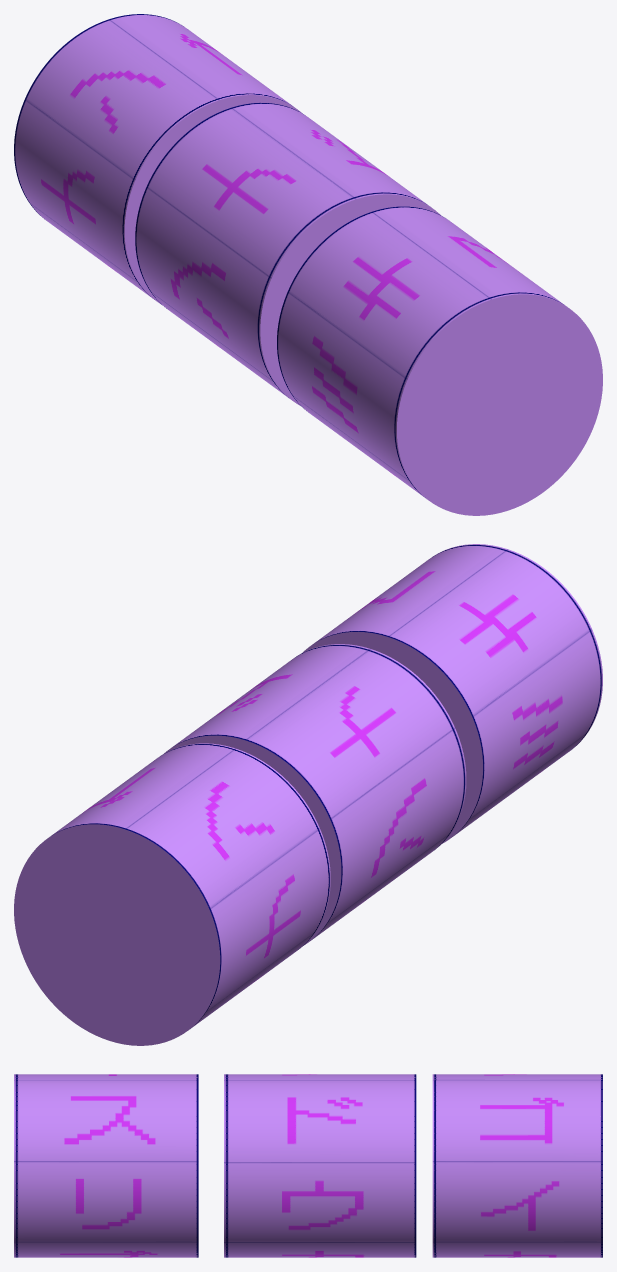
The model's file is slot.fbx.
3 views of the same model, one above another, from view 1: azimuth 30°, elevation 25°; view 2: azimuth 150°, elevation 25°; view 3: azimuth 270°, elevation 25° (orthographic). The views are drawn at different scales.
Visible parts, largest first — view 1: 円柱, 円柱.001, 円柱.002; view 2: 円柱.002, 円柱, 円柱.001; view 3: 円柱.001, 円柱, 円柱.002.
Part boxes in pixels (x1,y1,x2,y2): 円柱: (277, 206, 602, 515); 円柱.001: (135, 102, 440, 406); 円柱.002: (14, 14, 302, 304); 円柱.002: (14, 743, 330, 1045); 円柱: (302, 544, 602, 843); 円柱.001: (164, 644, 466, 944); 円柱.001: (224, 1074, 416, 1257); 円柱: (14, 1074, 198, 1257); 円柱.002: (432, 1074, 602, 1257).
Bounding box in the file's own units: 2 × 2 × 6.43.
Materials: 3 (3 with a texture image).
